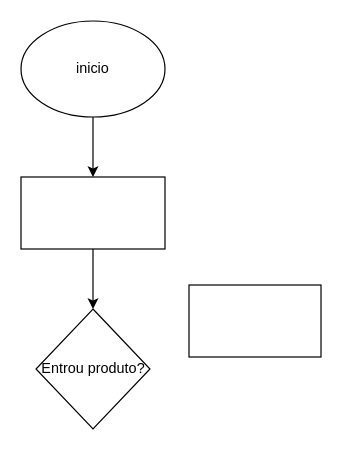
Image size: 342x450. Some labels were removed from this diagram. The centre of each missing label's shape, as x and y in pixels:
"gerente solicita produto" belongs at [92,212].
"saída de produtos" belongs at [254,320].
